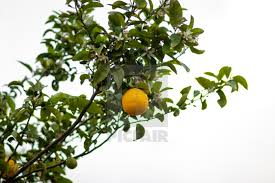orange: (118, 86, 149, 118)
